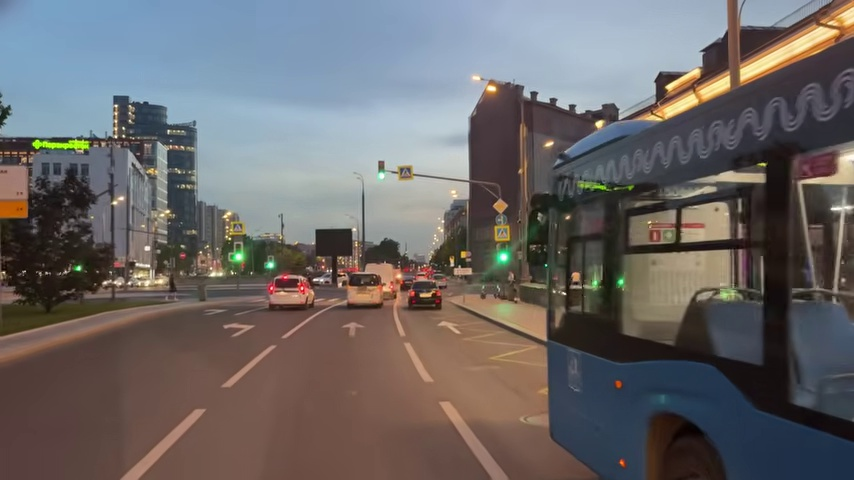acesa: (838, 150, 853, 182)
